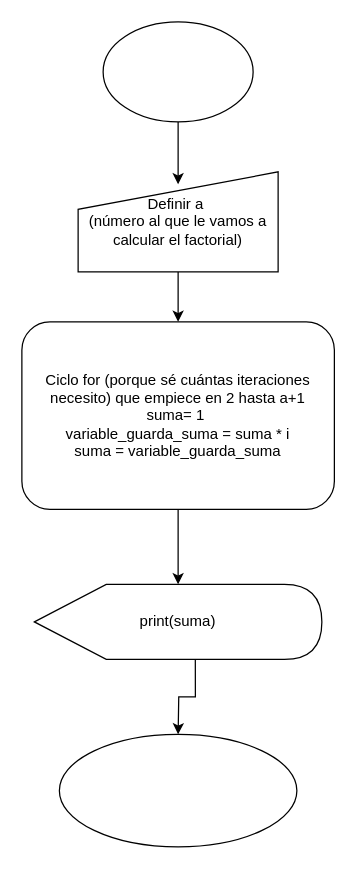
The diagram is 356 pixels wide and 869 high, and some of its shapes have lost their labels. The shapes that lost their labels are listed below. From the top down, each one's centre as x and y in pixels, then its label:
At [177,71]: "Algoritmo para calcular el número primero de un número entero".
At [177,790]: "Fin del algoritmo".
